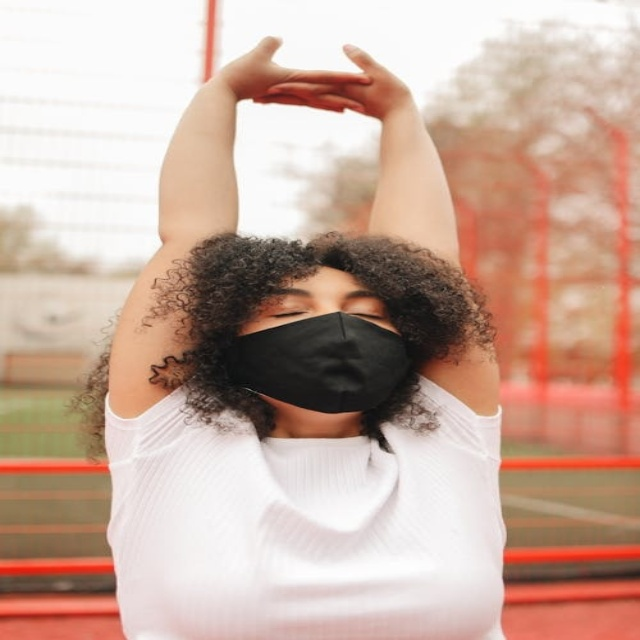Mascara: (225, 311, 409, 412)
Sin_gafas: (269, 310, 309, 319), (349, 312, 388, 321)
Sin_guantes: (212, 27, 417, 125)
